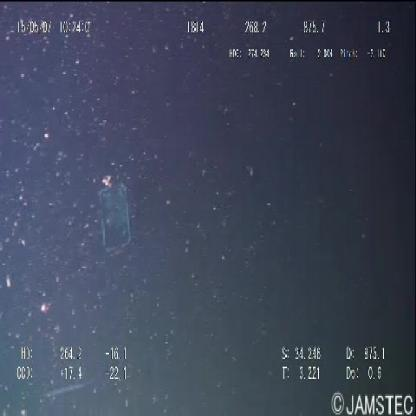Rác: (92, 177, 139, 267)
